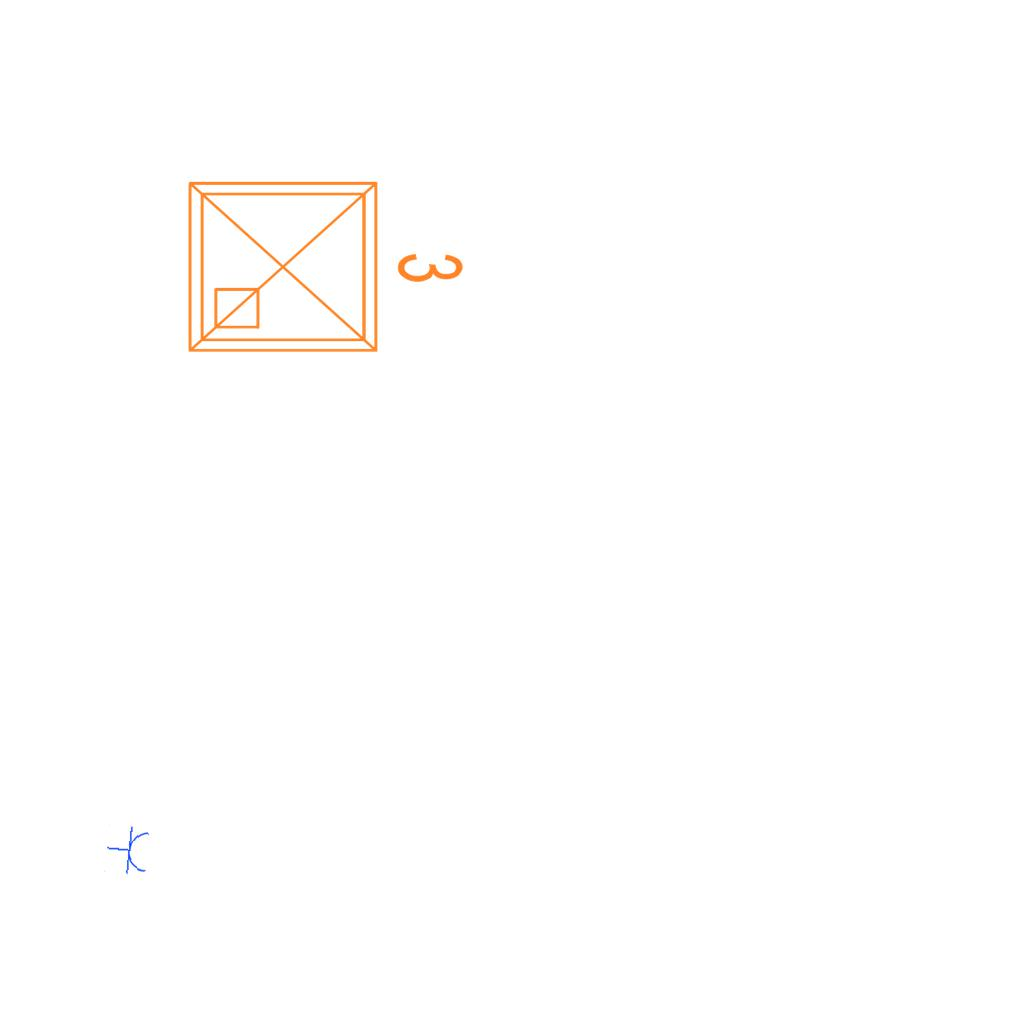Einbaudownlights_LED_Konferenzraeume: (174, 159, 474, 367)
Schukosteckdose_einfach: (104, 823, 152, 878)
